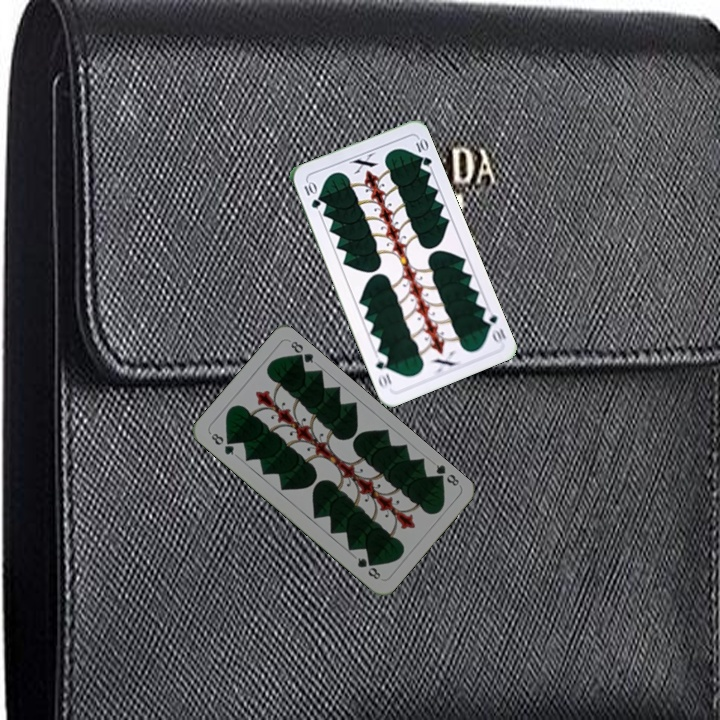G10: (478, 309, 509, 345), (300, 177, 323, 211)
G8: (430, 460, 462, 489), (207, 429, 237, 458)
